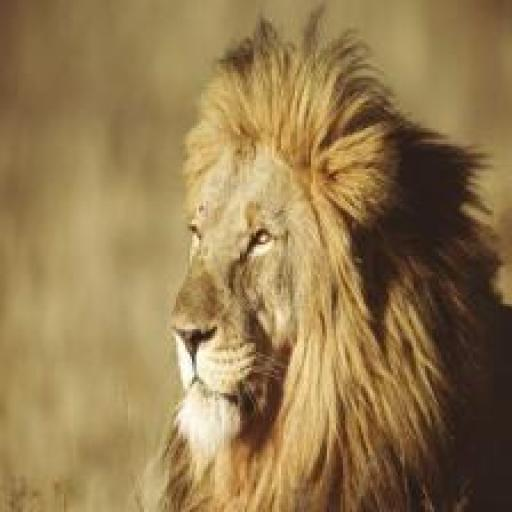lion: (164, 34, 412, 465)
